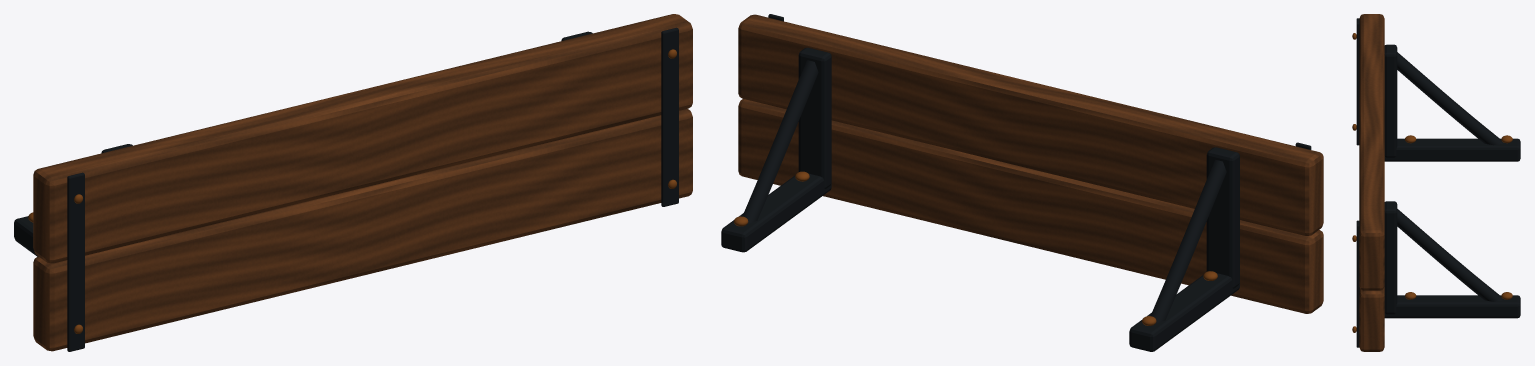
The model's file is Shelf.obj.
3 views of the same model, side by side, from view 1: azimuth 30°, elevation 25°; view 2: azimuth 150°, elevation 25°; view 3: azimuth 270°, elevation 25° (orthographic). The views are drawn at different scales.
Visible parts, largest first — view 1: Single_Tier_Oak_Plank, Single_Tier_Oak_Plank.001, Corner_Strap.001, Corner_Strap, Wall_Bracket.001; view 2: Single_Tier_Oak_Plank, Single_Tier_Oak_Plank.001, Shelf_Support, Shelf_Support.001, Wall_Bracket, Wall_Bracket.001, Curved_Support.001, Curved_Support; view 3: Single_Tier_Oak_Plank, Wall_Bracket, Wall_Bracket.001, Curved_Support, Curved_Support.001, Single_Tier_Oak_Plank.001, Shelf_Support, Shelf_Support.001, Corner_Strap, Corner_Strap.001.
Part boxes in pixels (x1,y1,x2,y2): Single_Tier_Oak_Plank: (33,14,692,263); Single_Tier_Oak_Plank.001: (33,109,692,351); Corner_Strap.001: (67,172,84,351); Corner_Strap: (661,27,678,206); Wall_Bracket.001: (14,216,38,256); Single_Tier_Oak_Plank: (738,14,1323,235); Single_Tier_Oak_Plank.001: (738,99,1323,313); Shelf_Support: (798,47,831,188); Shelf_Support.001: (1206,147,1239,288); Wall_Bracket: (721,173,831,252); Wall_Bracket.001: (1129,273,1239,351); Curved_Support.001: (1150,159,1226,323); Curved_Support: (742,60,818,223); Single_Tier_Oak_Plank: (1359,14,1384,290); Wall_Bracket: (1384,295,1520,318); Wall_Bracket.001: (1384,138,1520,161); Curved_Support: (1397,209,1502,301); Curved_Support.001: (1397,52,1502,145); Single_Tier_Oak_Plank.001: (1359,287,1384,351); Shelf_Support: (1384,201,1397,314); Shelf_Support.001: (1384,44,1397,157); Corner_Strap: (1356,220,1359,347); Corner_Strap.001: (1356,18,1359,145).
Size of the model in its own units: 1.35 by 0.35 by 0.4359.
Materials: 3 (1 with a texture image).
